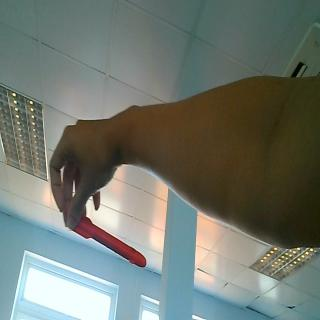Rocket: (75, 216, 147, 269)
